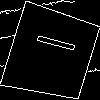I: (26, 28, 77, 55)
